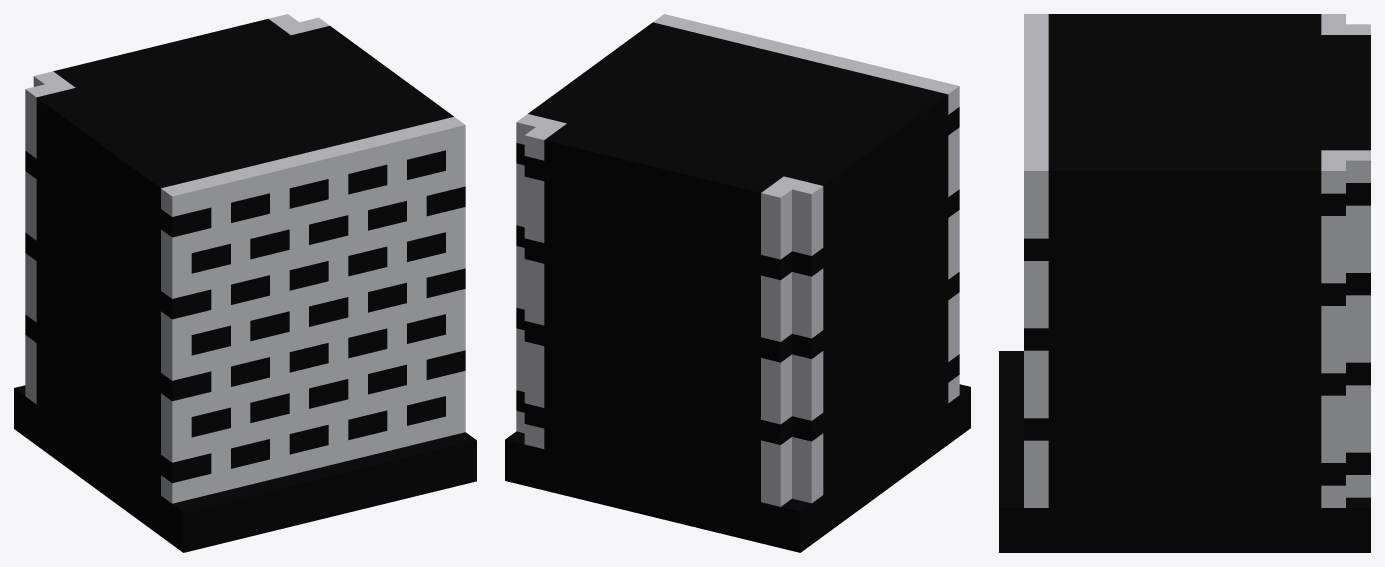
File: dungeon_d_b_inner_wall_segment_b_flipped.obj
3 renders of one model, left to right at view 1: azimuth 30°, elevation 25°; view 2: azimuth 150°, elevation 25°; view 3: azimuth 270°, elevation 25°, orthographic. The views are drawn at different scales.
Size of the model in its own units: 1.5 by 1.7 by 1.5.
1 material, 1 textured.
